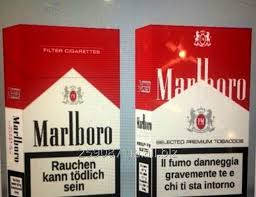marlboro: (20, 25, 121, 197), (150, 27, 248, 197)
